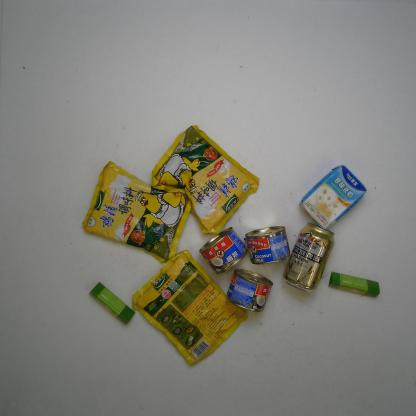Alcohol: (281, 222, 337, 294)
Canned Food: (199, 226, 249, 275), (225, 267, 274, 314), (244, 225, 292, 266)
Milk: (298, 162, 370, 232)
Seasoner: (130, 248, 250, 368), (150, 124, 262, 236), (80, 159, 193, 263)
Stationery: (87, 280, 137, 327), (327, 270, 381, 300)
